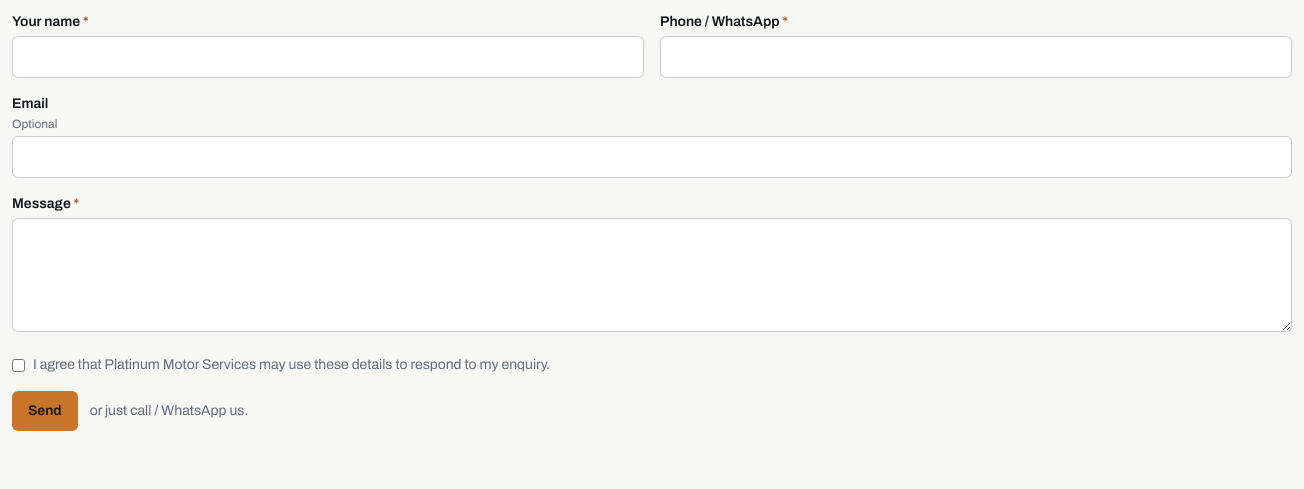
Test: <EnquiryForm /> › blocks submit and shows errors when required fields are empty (contact)
Step 1. Click the button "Send" → (45, 411), box [12,391,78,431]
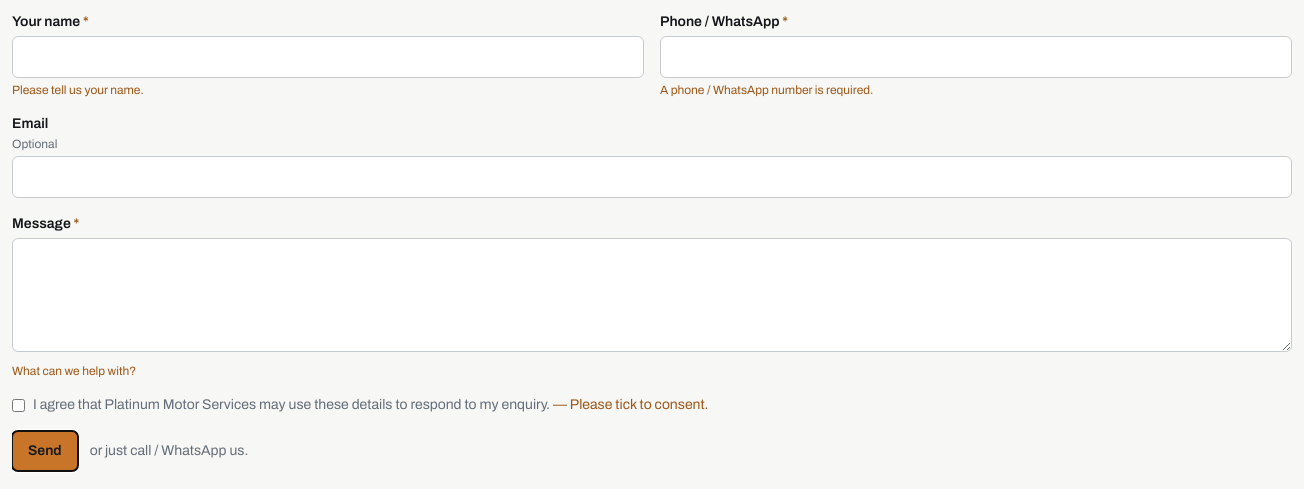
Now the text "Please tell us your name." is shown, box [12,83,144,97]
Now the text "A phone / WhatsApp number is required." is shown, box [660,83,873,97]
Now the text "What can we help with?" is shown, box [12,364,136,378]
